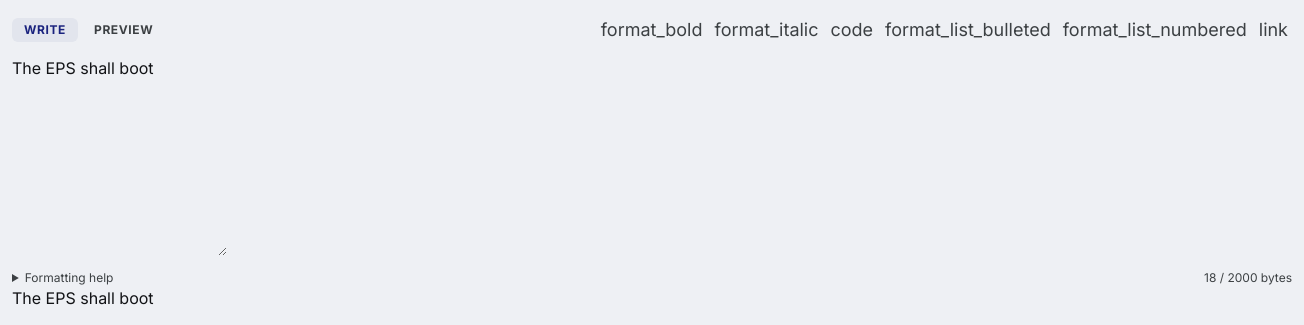
Test: StatementEditor › applies toolbar formatting to the selection
The image size is (1304, 325).
Click the button "format_bold". click: (652, 30)
box: left=597, top=12, right=706, bottom=48
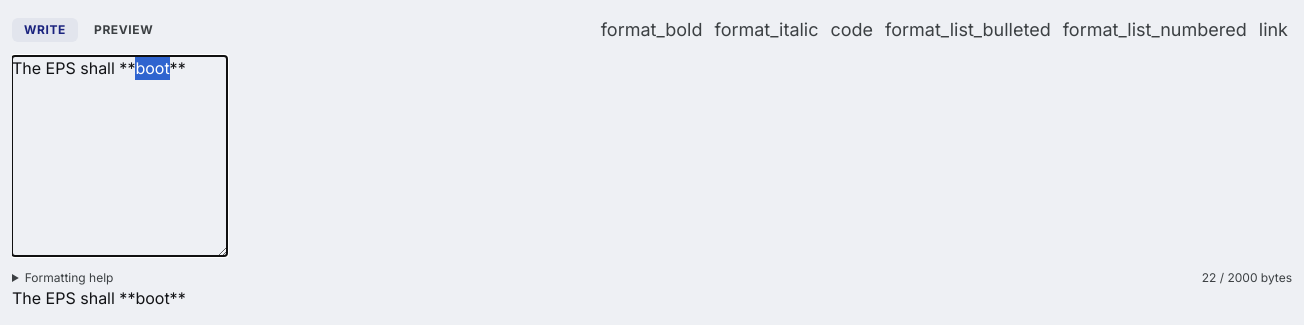
Result: the text with test id "value" reads "The EPS shall **boot**" at left=12, top=288, right=186, bottom=308
